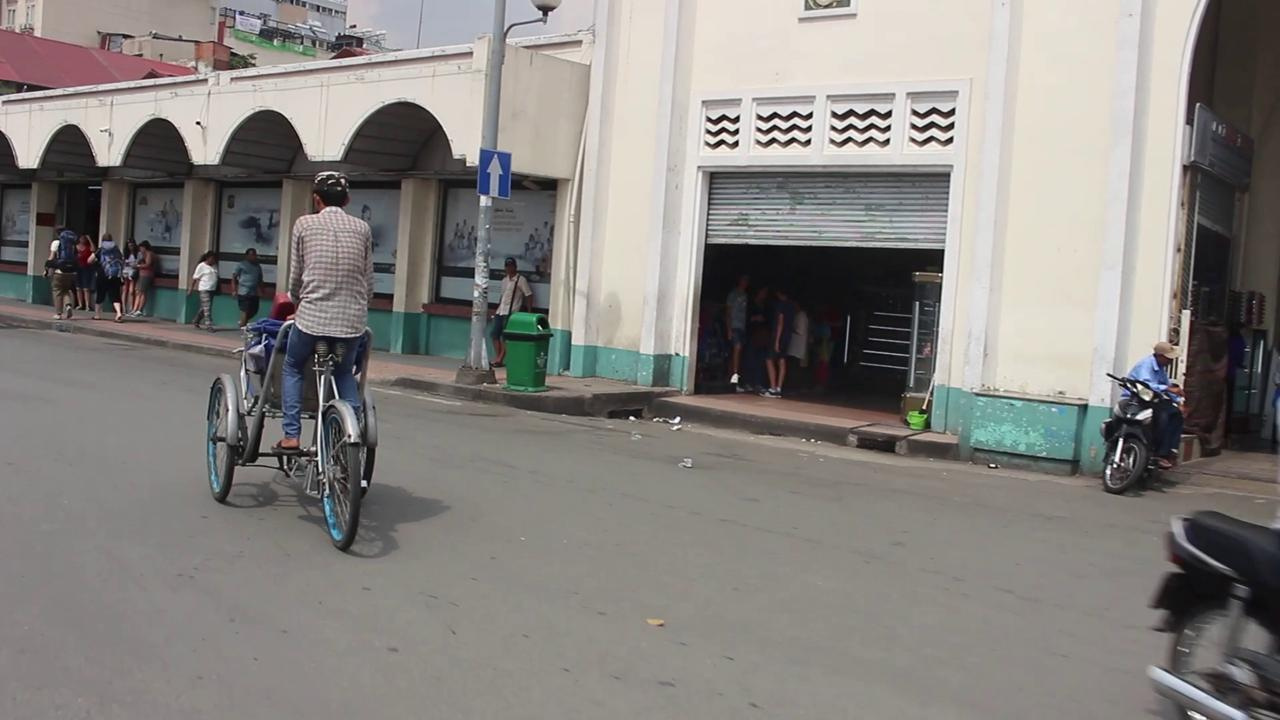P.124c: (478, 148, 514, 203)
